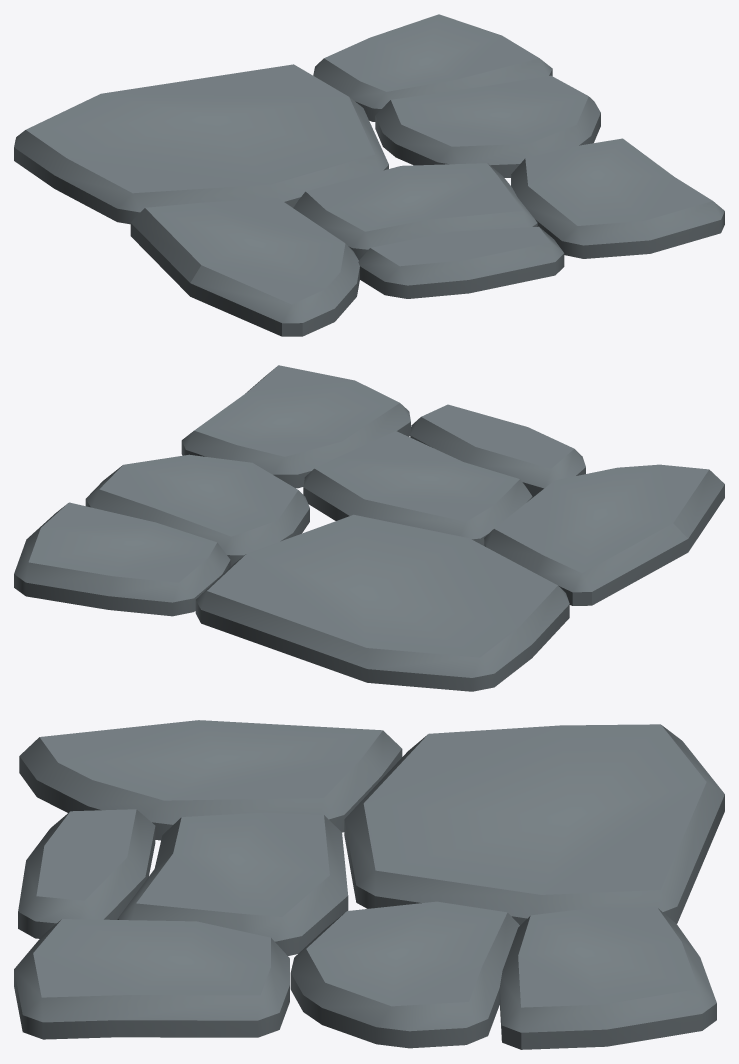
The model's file is path_A.obj.
3 views of the same model, one above another, from view 1: azimuth 30°, elevation 25°; view 2: azimuth 150°, elevation 25°; view 3: azimuth 270°, elevation 25° (orthographic). The views are drawn at different scales.
Parts seen in each view (by area): view 1: path_A_Cube.697; view 2: path_A_Cube.697; view 3: path_A_Cube.697.
Boxes of the visible parts, box(x1,y1,x2,y2) form: path_A_Cube.697: box(14, 14, 724, 336); path_A_Cube.697: box(14, 365, 724, 691); path_A_Cube.697: box(14, 720, 724, 1049).
Bounding box in the file's own units: 1.9 × 0.1 × 1.88.
1 material, 1 textured.
